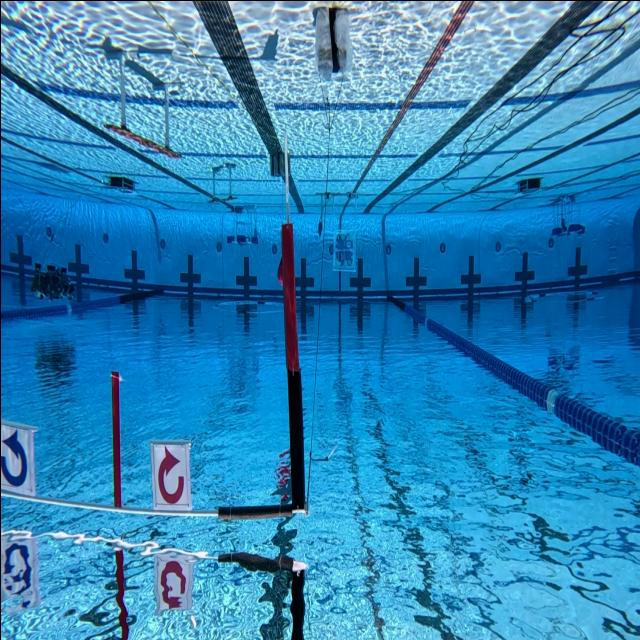blue_side: (0, 412, 34, 510)
red_side: (146, 430, 192, 524)
